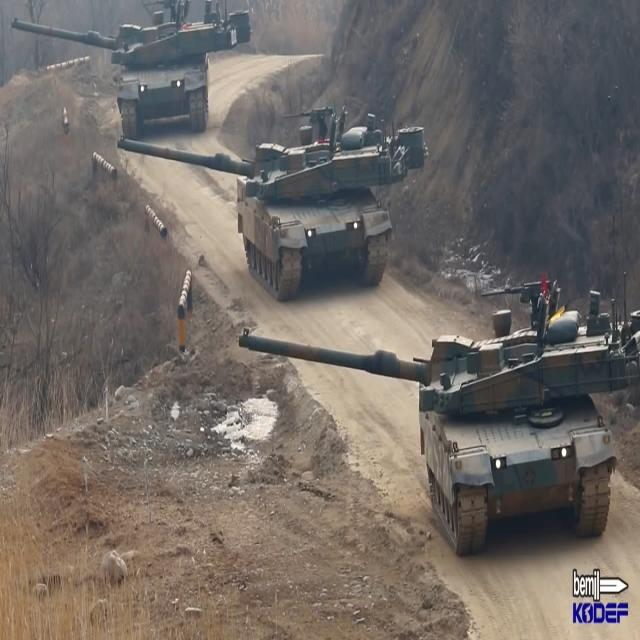korea tank: (236, 277, 640, 559)
